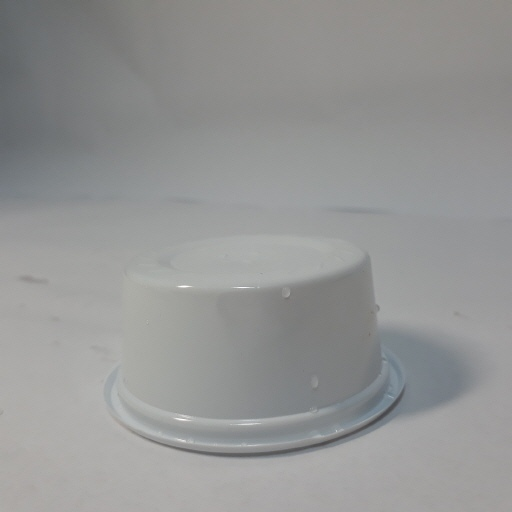Plastic_5: (101, 232, 408, 459)
